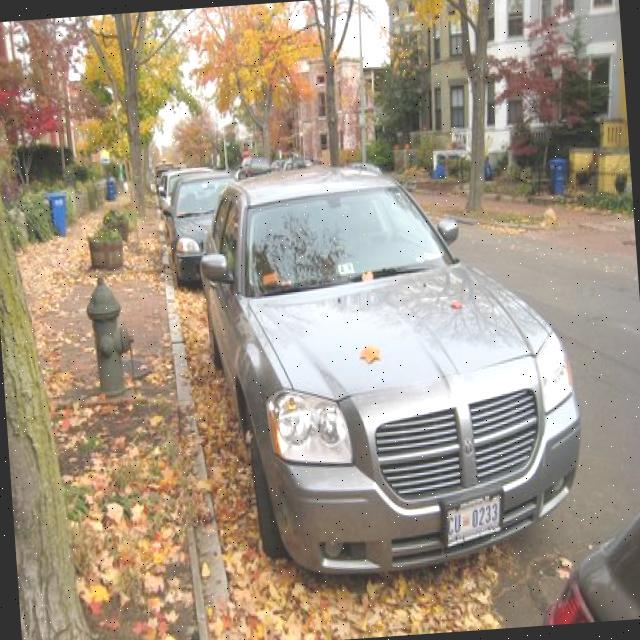fire_hydrant: (80, 266, 132, 408)
